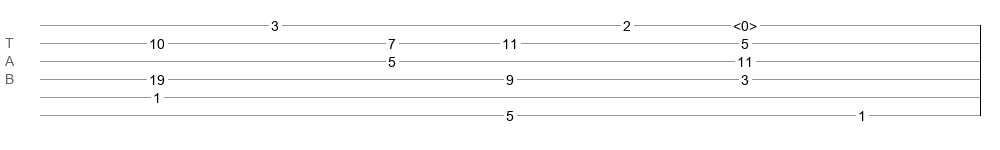1: (153, 90, 161, 100), (858, 108, 866, 118)
10: (149, 36, 165, 46)
11: (502, 36, 518, 46), (737, 54, 753, 64)
19: (149, 72, 165, 82)
2: (623, 18, 631, 28)
3: (271, 18, 279, 28), (741, 72, 749, 82)
5: (388, 54, 396, 64), (506, 108, 514, 118), (741, 36, 749, 46)
7: (388, 36, 396, 46)
9: (506, 72, 514, 82)
harmonic: (733, 18, 757, 28)
